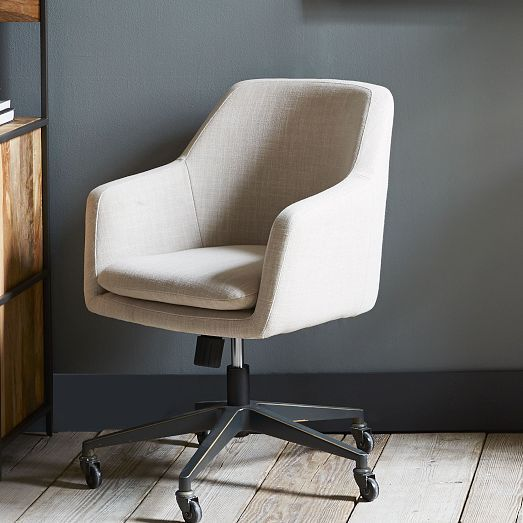chairs: (58, 77, 397, 522)
